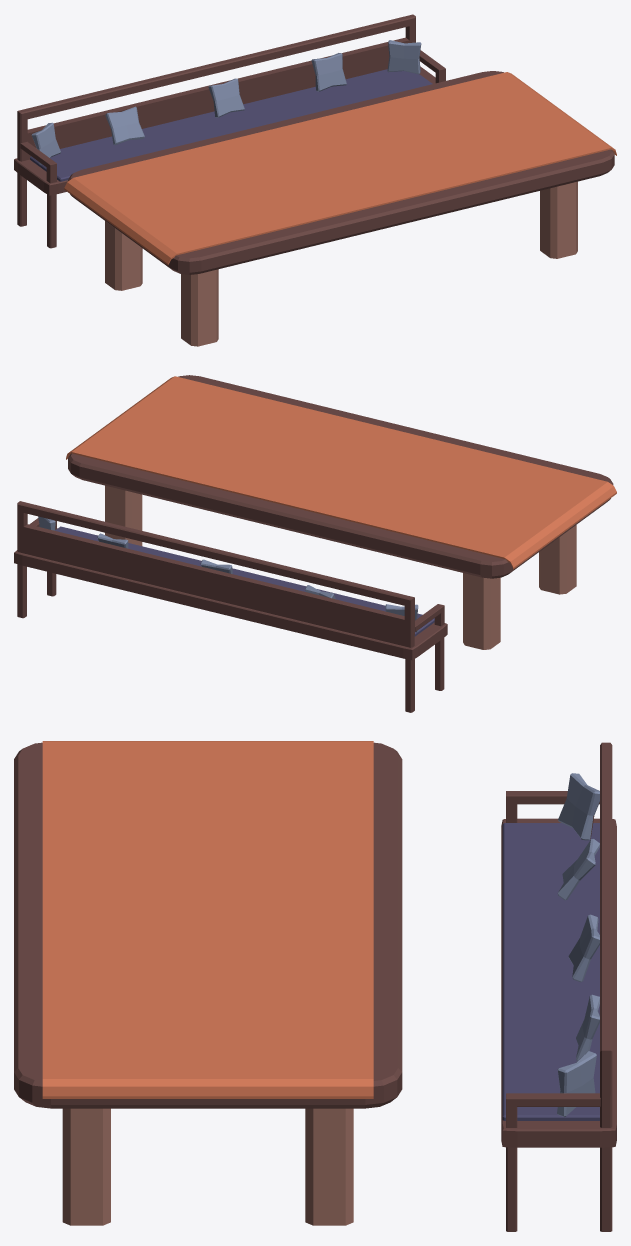
File: Long Table and Bench.fbx
The picture shows the model from 3 angles, top to bottom: view 1: azimuth 30°, elevation 25°; view 2: azimuth 150°, elevation 25°; view 3: azimuth 270°, elevation 25°; orthographic projection. The views are drawn at different scales.
Parts seen in each view (by area): view 1: Table, Bench; view 2: Table, Bench; view 3: Table, Bench.
Part boxes in pixels (left/top/right/bottom): Table: left=64, top=71, right=616, bottom=346; Bench: left=14, top=14, right=445, bottom=248; Table: left=66, top=375, right=616, bottom=649; Bench: left=14, top=501, right=447, bottom=712; Table: left=14, top=741, right=402, bottom=1225; Bench: left=501, top=742, right=616, bottom=1231.
Size of the model in its own units: 463 by 112 by 338.
